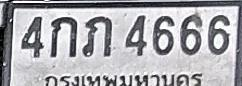4: (21, 16, 43, 57), (125, 14, 146, 56)
6: (180, 13, 202, 55), (208, 14, 230, 54), (153, 15, 174, 55)
A01: (50, 16, 77, 57)
A32: (82, 16, 112, 57)
